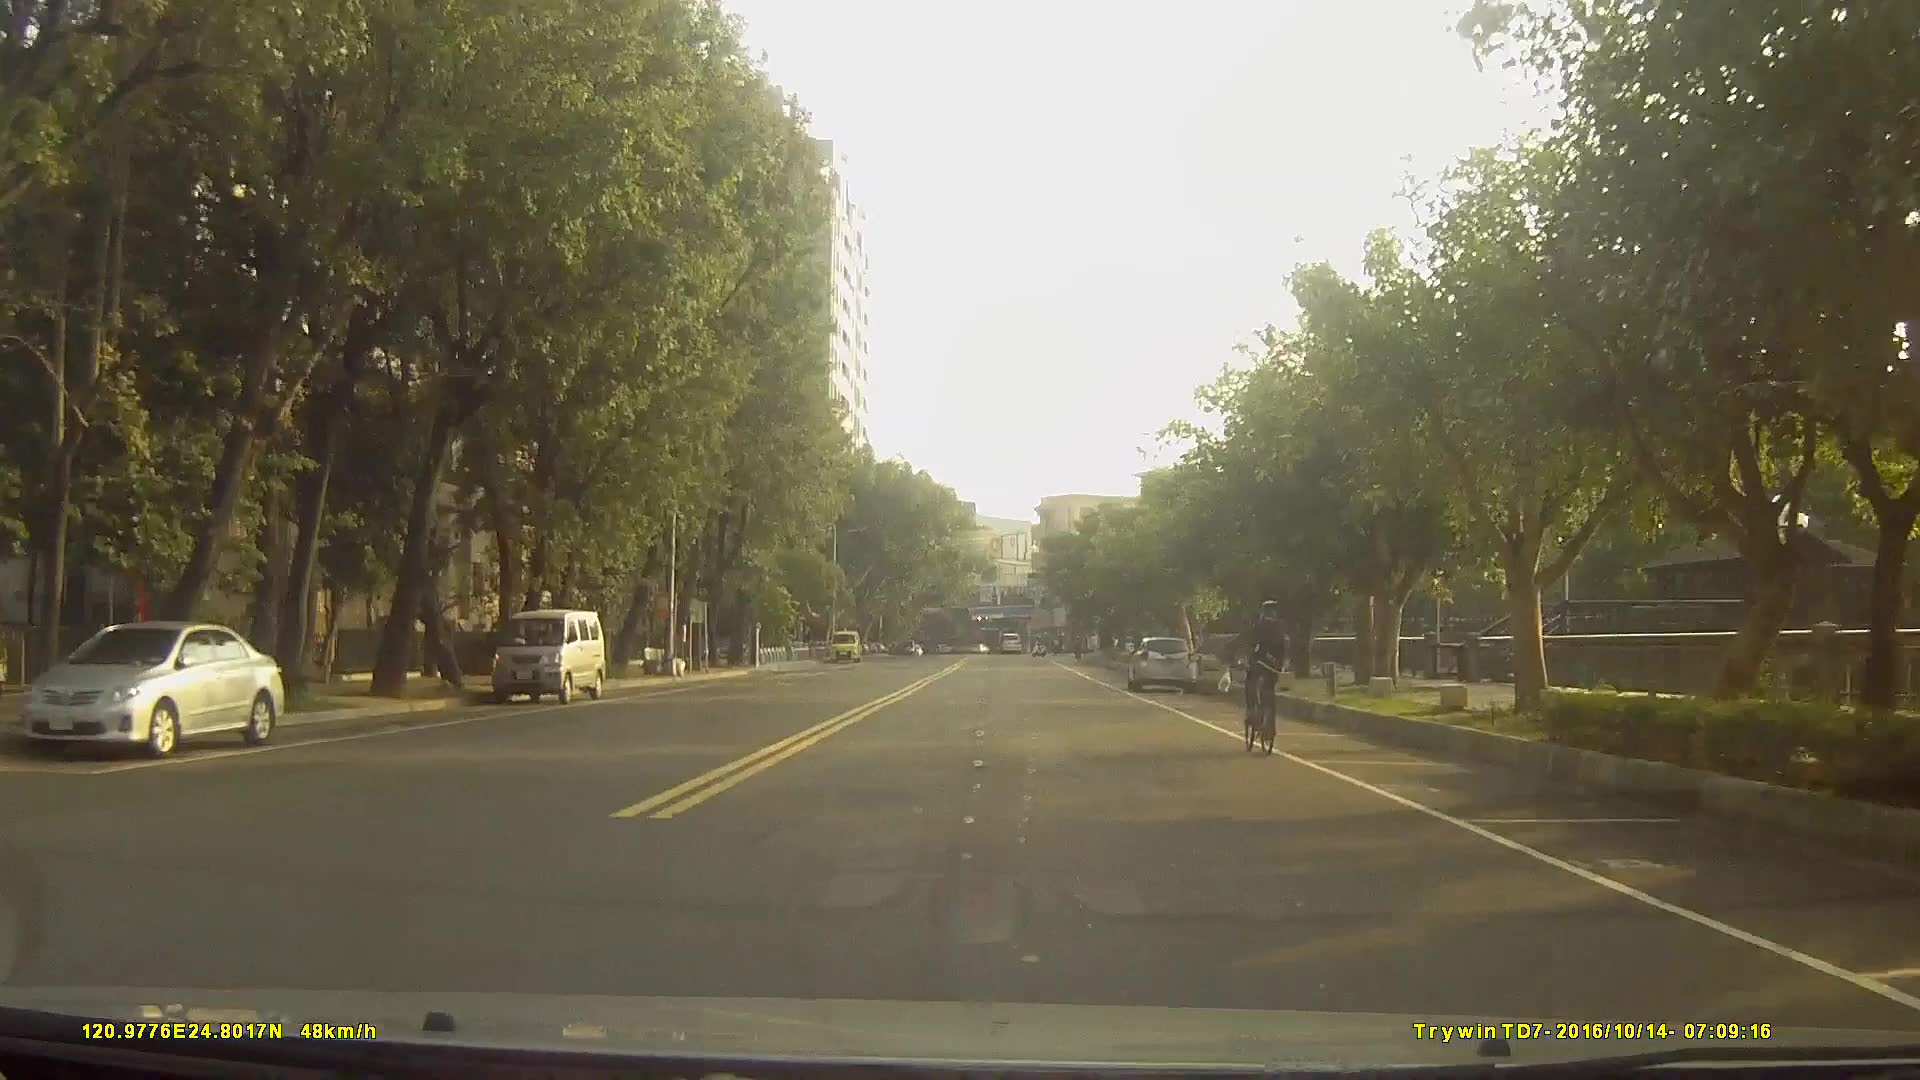rider: (1245, 591, 1289, 748)
vehicle: (24, 620, 285, 759), (490, 604, 606, 702), (1124, 631, 1199, 692), (997, 630, 1023, 655)
